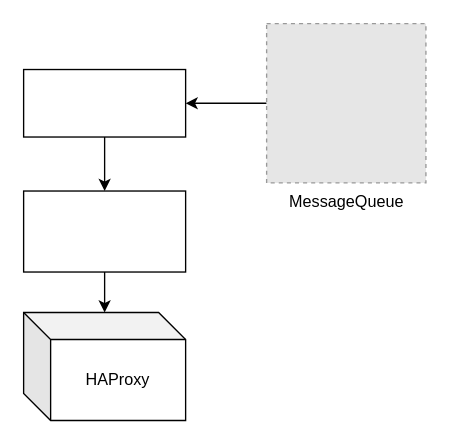
Some shapes in this 450 by 444 pixel diagram are drawn without their labels. Grey dashed boxes stand in for pictures. The shapes that lost their labels are listed below. From the top down, each one's centre as x and y in pixels, then its label:
At (104,102): "center".
At (104,231): "agent".
